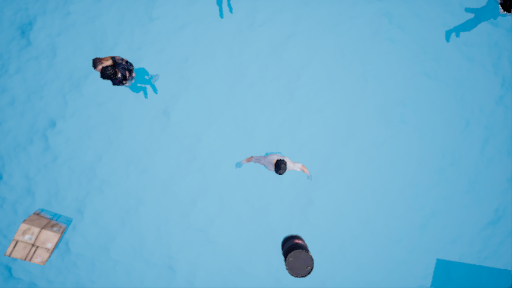person: (89, 54, 166, 107), (232, 150, 313, 186)
